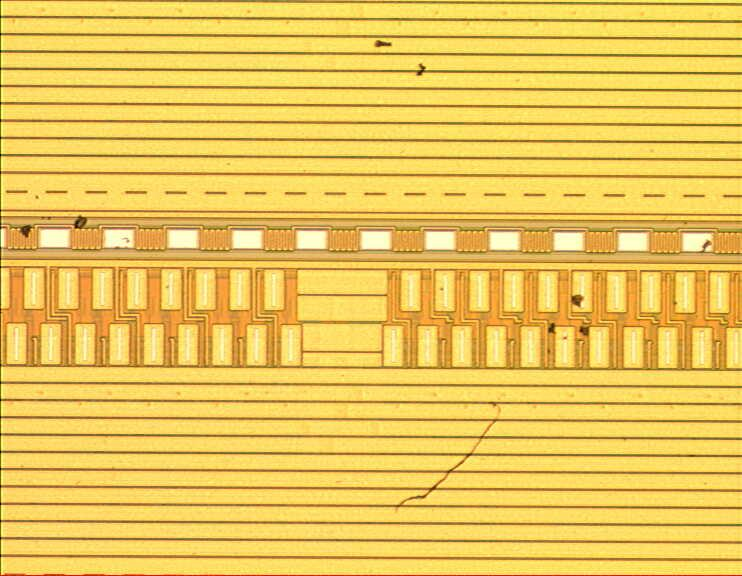PO CONTAMINATION: (11, 30, 721, 517)
